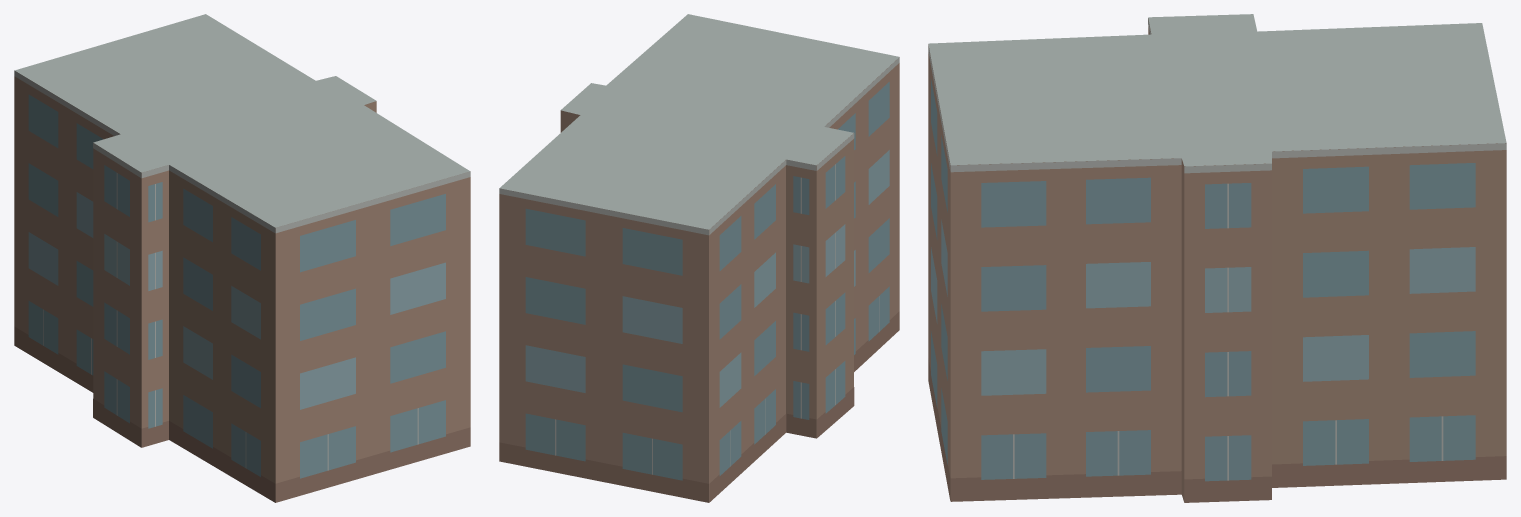
Rendered from survey-upis-32750121.glb.
3 views of the same model, side by side, from view 1: azimuth 30°, elevation 25°; view 2: azimuth 150°, elevation 25°; view 3: azimuth 270°, elevation 25° (orthographic). The views are drawn at different scales.
Parts seen in each view (by area): view 1: survey-upis-32750121.tmp; view 2: survey-upis-32750121.tmp; view 3: survey-upis-32750121.tmp.
Boxes of the visible parts, x1,y1,x2,y2 form: survey-upis-32750121.tmp: (14,14,470,502); survey-upis-32750121.tmp: (499,14,899,502); survey-upis-32750121.tmp: (928,14,1506,502).
Bounding box in the file's own units: 11.52 × 11.85 × 18.47.
